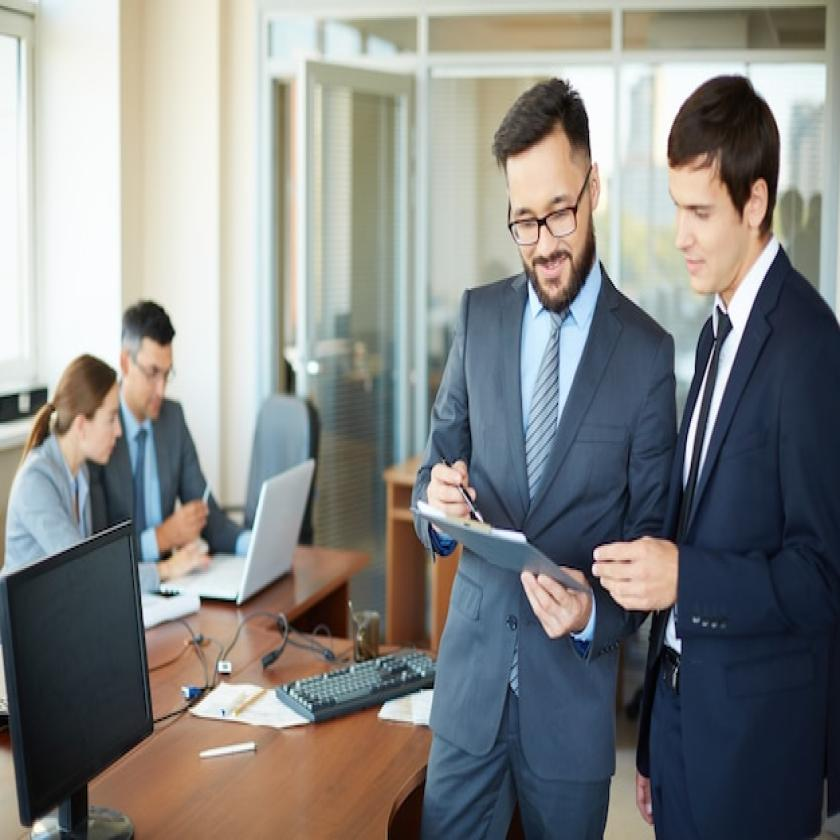Sin_casco: (667, 69, 783, 295), (492, 76, 602, 311), (54, 350, 126, 480), (114, 297, 180, 429)
